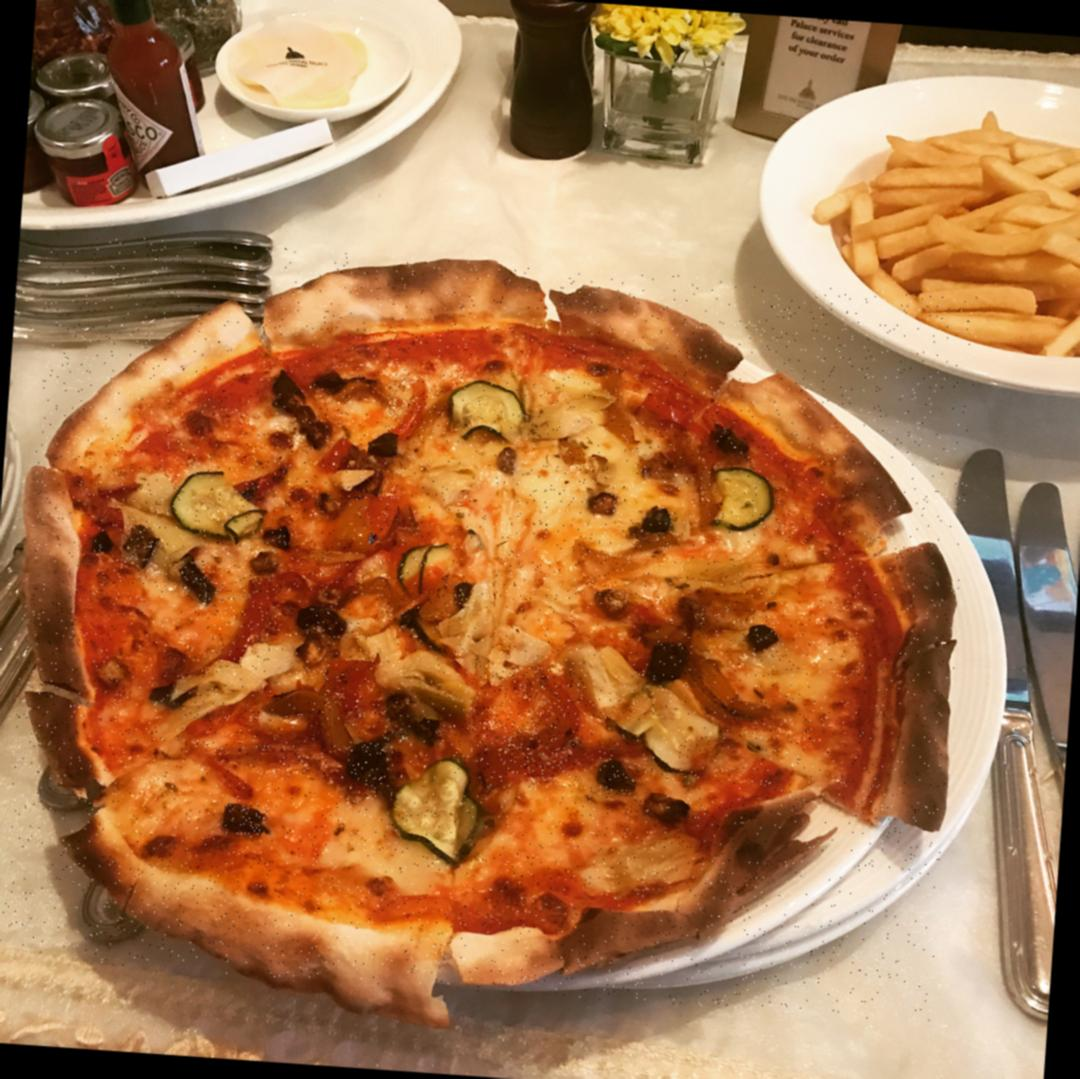Cheese: (496, 450, 630, 604)
Olives: (346, 742, 397, 798), (642, 642, 694, 694), (121, 522, 160, 579), (643, 792, 686, 828), (223, 804, 268, 838), (298, 608, 344, 639), (748, 618, 783, 658), (263, 377, 302, 412), (179, 560, 210, 601), (368, 428, 404, 462), (86, 522, 120, 556), (598, 762, 634, 794), (642, 504, 674, 538), (454, 580, 480, 608), (307, 416, 332, 445), (264, 530, 294, 546), (294, 406, 312, 425)
Pepperoni: (468, 662, 587, 784)
Peppers: (203, 573, 273, 674), (319, 658, 378, 717), (384, 372, 428, 445)
Pizza: (0, 231, 980, 1022)
